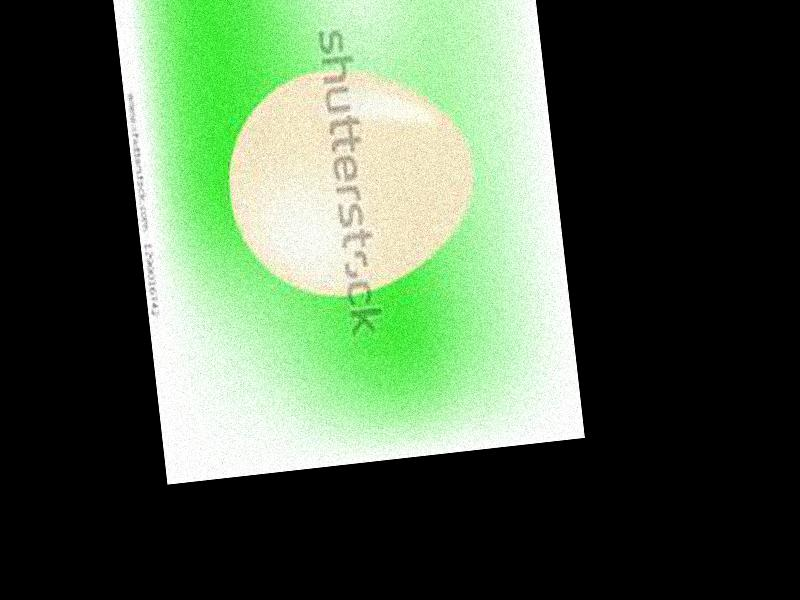Eggs: (218, 56, 485, 308)
